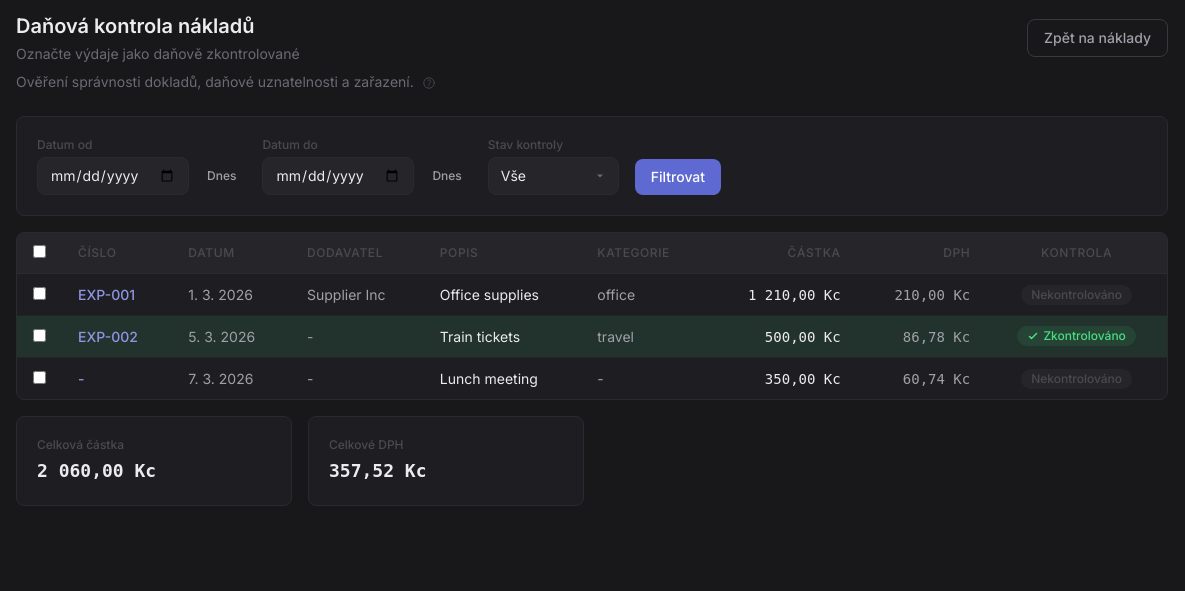
it: Expense Tax Review › deselecting all hides bulk action bar
Check: the text "Office supplies" is shown, box [424,274,581,316]
Click the checkbox next to "EXP-001" at {"x": 40, "y": 293}, box [33,286,46,300]
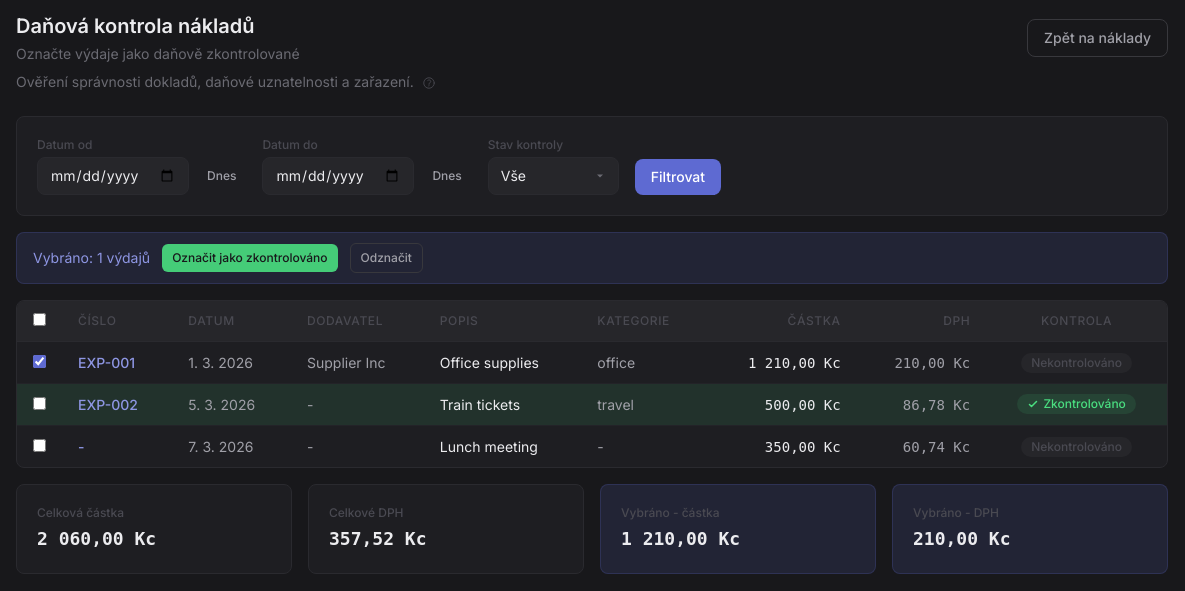
Check: the text "Vybráno: 1 výdajů" is shown, box [33,248,150,268]
// Deselect it
Click the checkbox next to "EXP-001" at {"x": 40, "y": 361}, box [33,354,46,368]
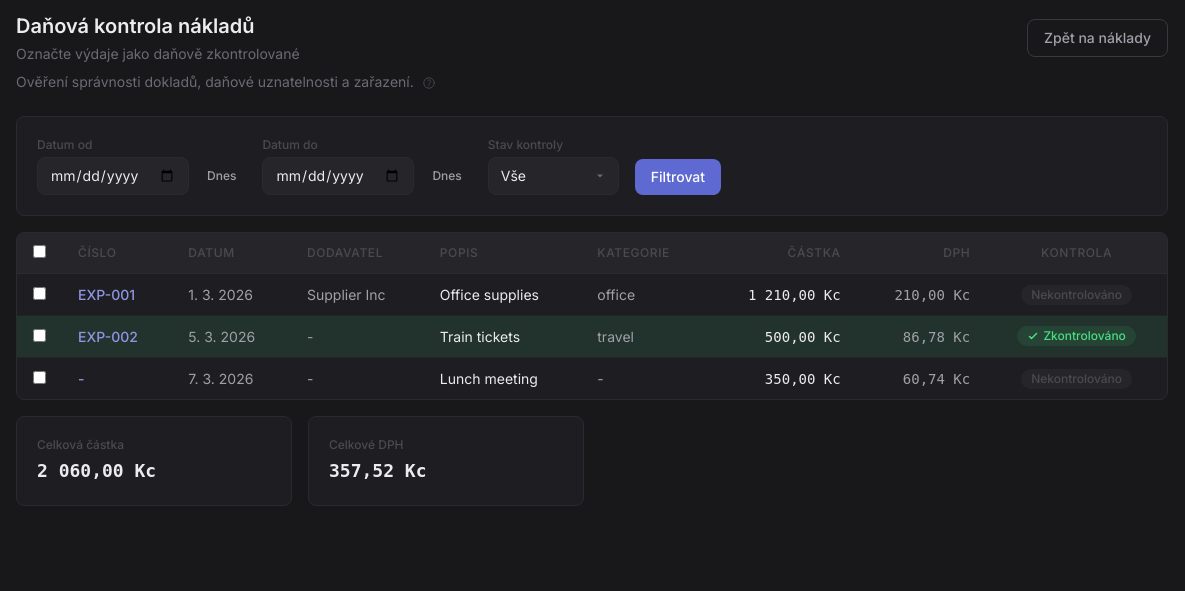
Check: the text "Vybráno:" is gone
